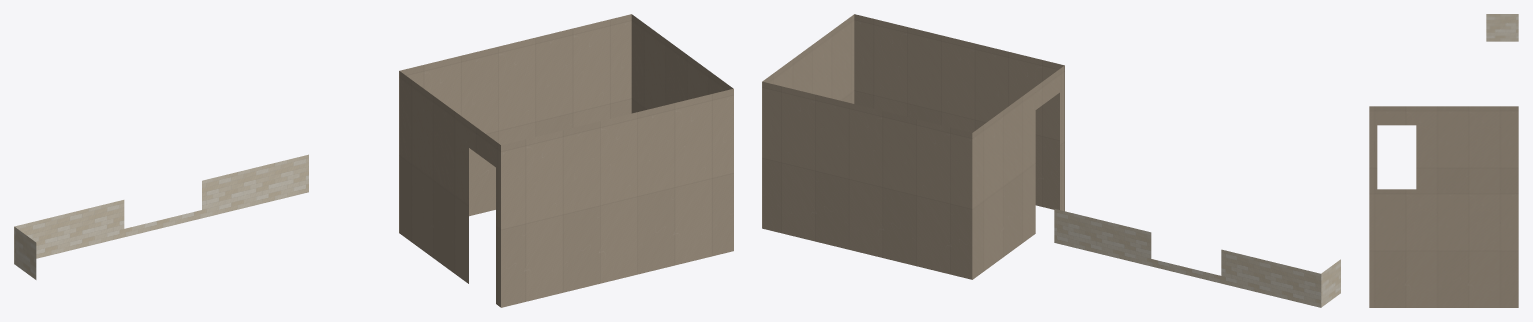
Rendered from BB_Revestimentos.fbx.
3 views of the same model, side by side, from view 1: azimuth 30°, elevation 25°; view 2: azimuth 150°, elevation 25°; view 3: azimuth 270°, elevation 25° (orthographic). The views are drawn at different scales.
Parts seen in each view (by area): view 1: Ban_Azulejos, Coz_Backsplash; view 2: Ban_Azulejos, Coz_Backsplash; view 3: Ban_Azulejos, Coz_Backsplash.
Boxes of the visible parts, x1,y1,x2,y2 form: Ban_Azulejos: (399,14,733,307); Coz_Backsplash: (14,154,308,279); Ban_Azulejos: (762,14,1064,279); Coz_Backsplash: (1054,209,1340,307); Ban_Azulejos: (1369,106,1518,307); Coz_Backsplash: (1486,14,1518,41).
Bounding box in the file's own units: 9.95 × 2.5 × 2.85.
